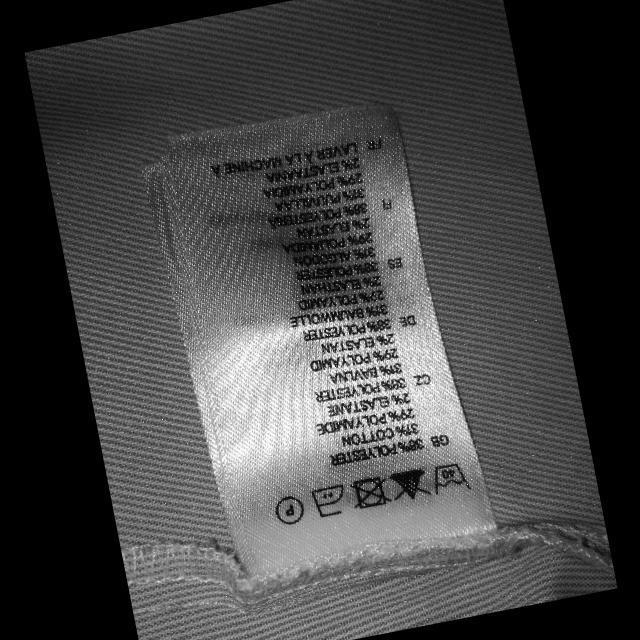40C: (428, 458, 471, 498)
DN_bleach: (386, 464, 432, 504)
DN_tumble_dry: (346, 474, 391, 511)
iron_medium: (309, 482, 348, 518)
normal_dry_clean_solvents: (270, 492, 306, 527)
